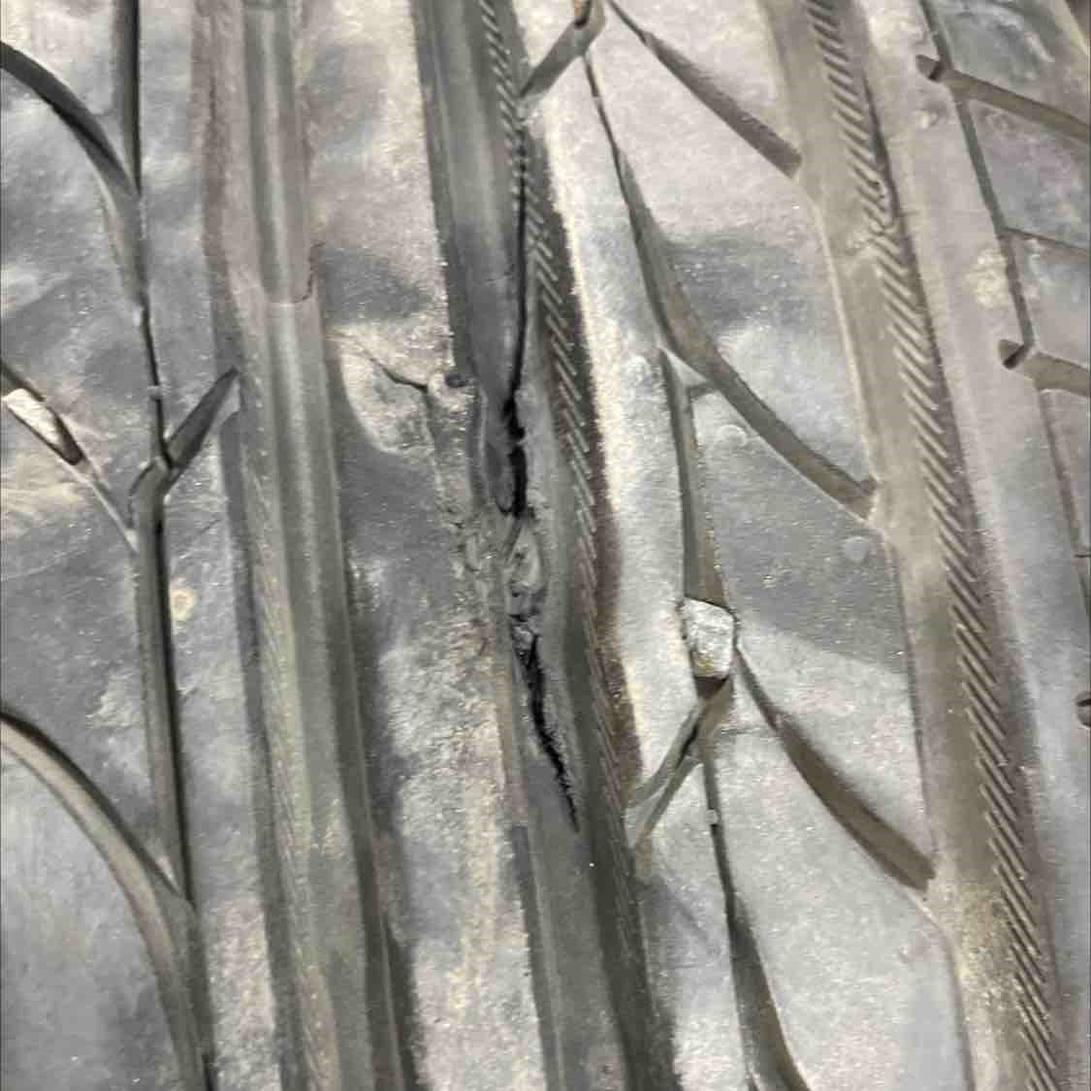tr: (483, 121, 545, 564), (503, 602, 587, 858)
